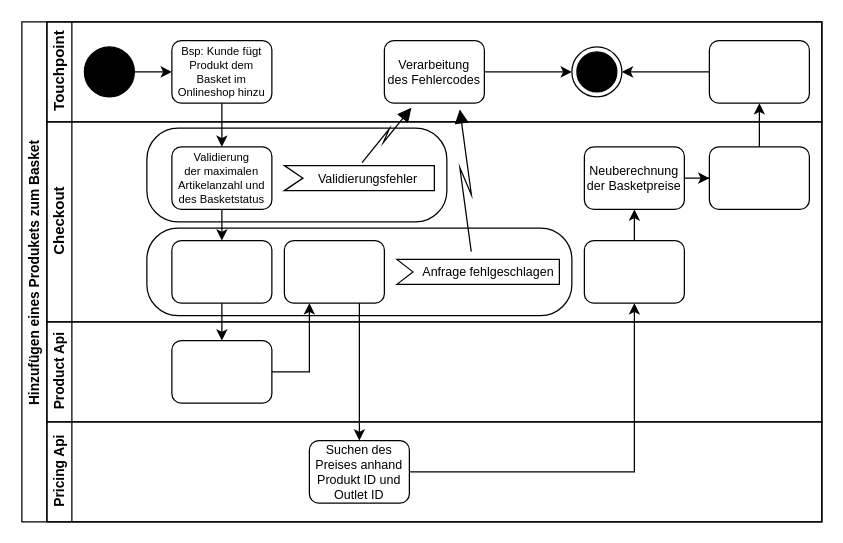
This 843x543 diagram has some shape labels left out. The centre of each missing label's shape, as x and y in pixels:
"Abrufen der Produktdetails" belongs at point (221, 271).
"Abrufen des aktuellen Preises" belongs at point (333, 271).
"Aktualisieren des lokal gespeicherten Baskets" belongs at point (758, 71).
"Hinzufügen der Lieferkosten der Produkte" belongs at point (633, 271).
"Persisitierung des aktuellen Baskets" belongs at point (758, 177).
"Suche des Produkts anhand Produkt ID" belongs at point (221, 371).
